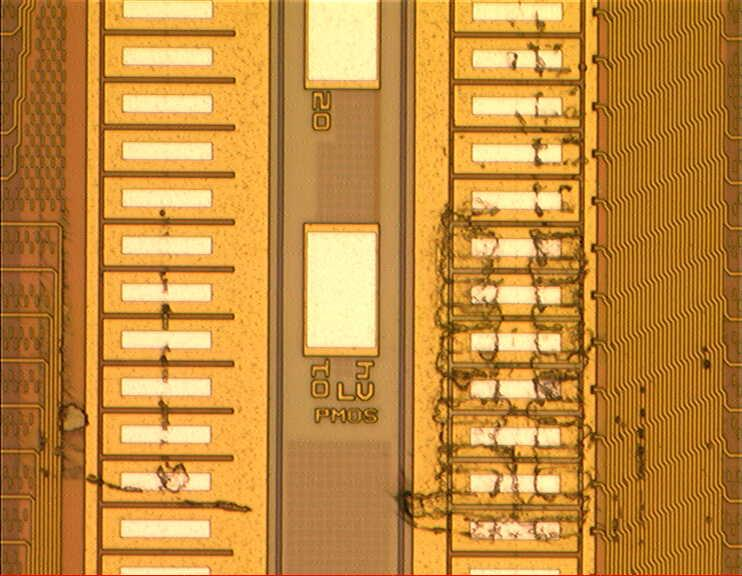SCRATCH: (35, 5, 653, 550)
